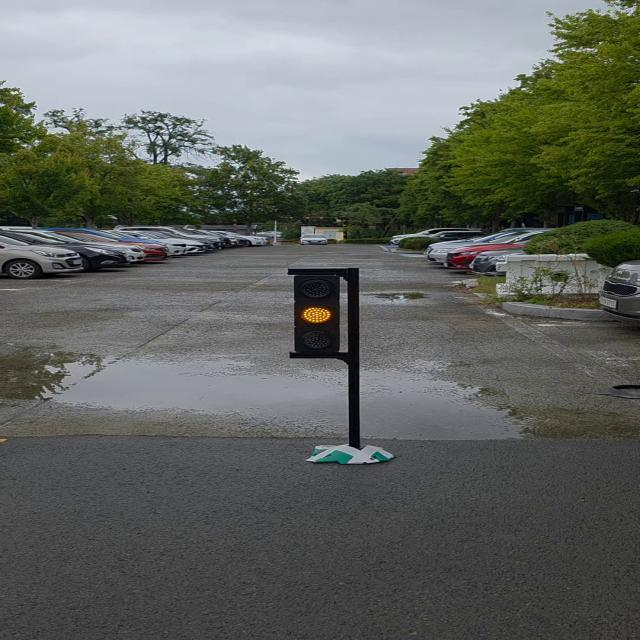yellow: (292, 271, 347, 354)
